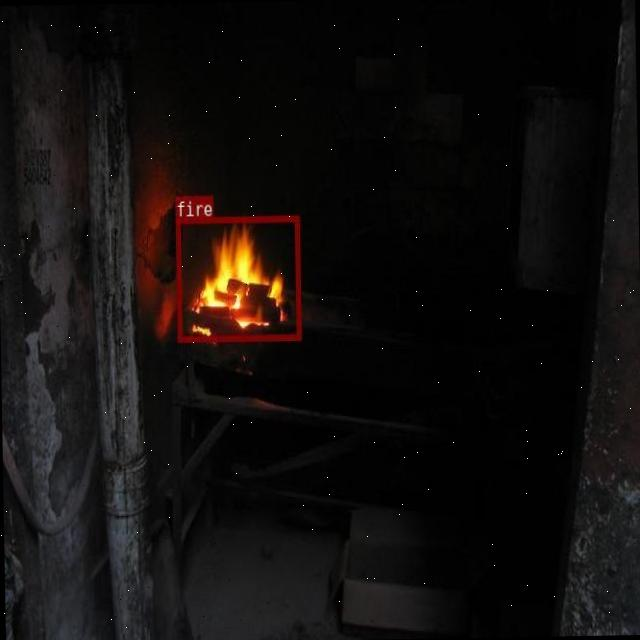fire: (174, 214, 299, 340)
